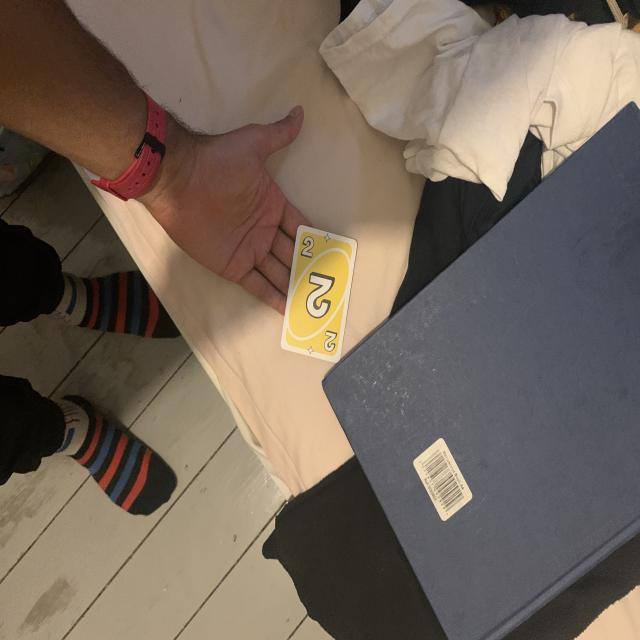lyellow-2: (298, 233, 318, 261)
